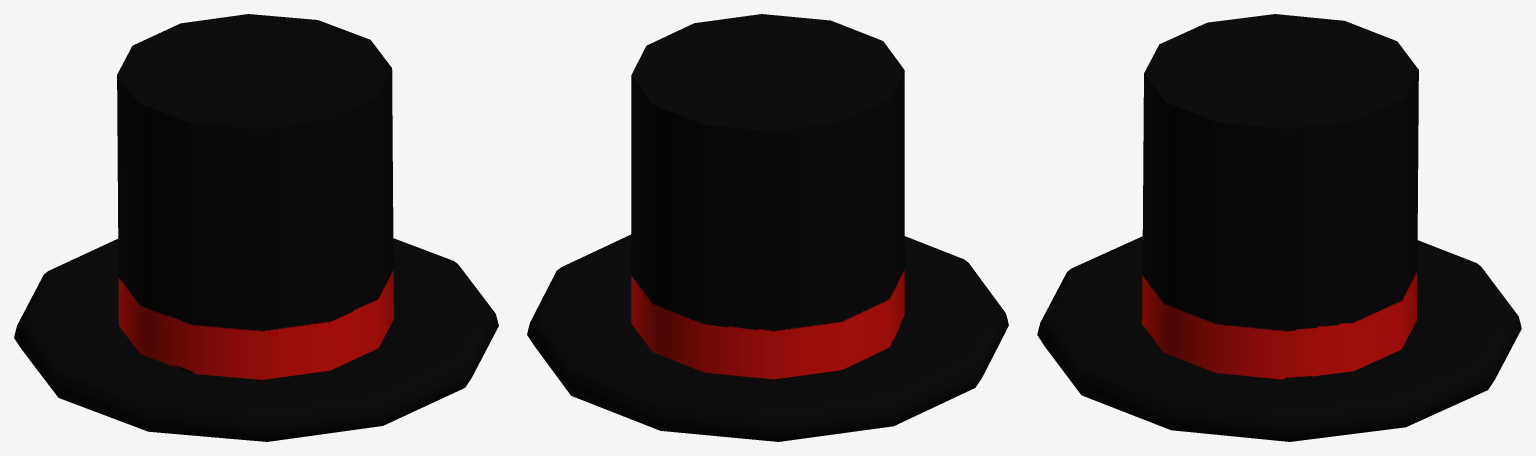
The model's file is tophat.fbx.
The picture shows the model from 3 angles, left to right: view 1: azimuth 30°, elevation 25°; view 2: azimuth 150°, elevation 25°; view 3: azimuth 270°, elevation 25°; orthographic projection.
Parts seen in each view (by area): view 1: Cylinder; view 2: Cylinder; view 3: Cylinder.
Boxes of the visible parts, x1,y1,x2,y2 form: Cylinder: [14, 14, 498, 441]; Cylinder: [527, 14, 1008, 441]; Cylinder: [1037, 14, 1521, 441].
Bounding box in the file's own units: 0.2962 × 0.1848 × 0.2962.
